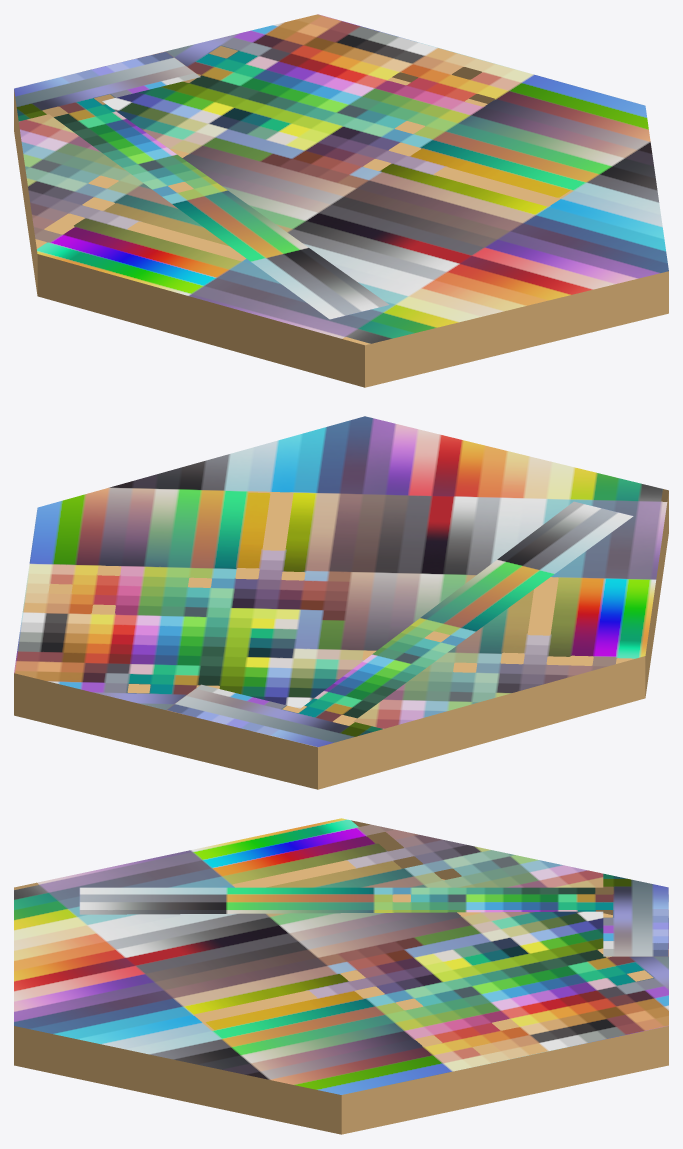
The model's file is Village7.fbx.
3 renders of one model, top to bottom at view 1: azimuth 30°, elevation 25°; view 2: azimuth 150°, elevation 25°; view 3: azimuth 270°, elevation 25°, orthographic. The views are drawn at different scales.
Parts seen in each view (by area): view 1: Village7; view 2: Village7; view 3: Village7.
Boxes of the visible parts, left/top/right/bottom form: Village7: left=14, top=14, right=668, bottom=387; Village7: left=14, top=416, right=668, bottom=789; Village7: left=14, top=818, right=668, bottom=1134.
Size of the model in its own units: 1500 by 100 by 1500.
